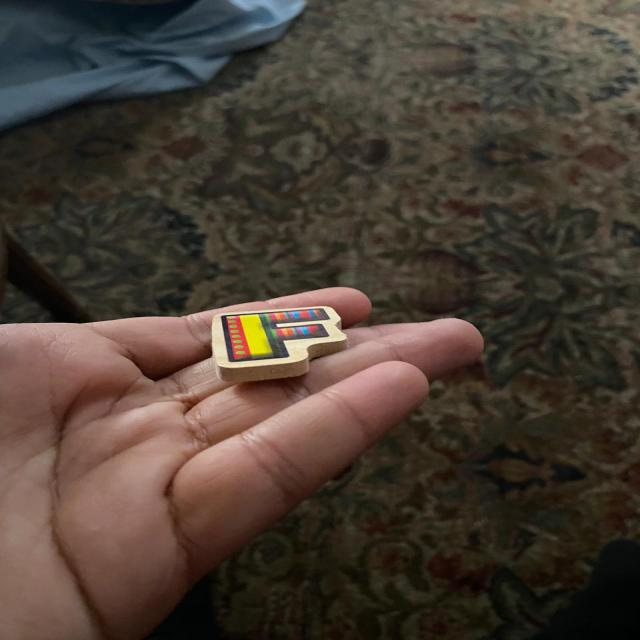F: (212, 306, 347, 382)
